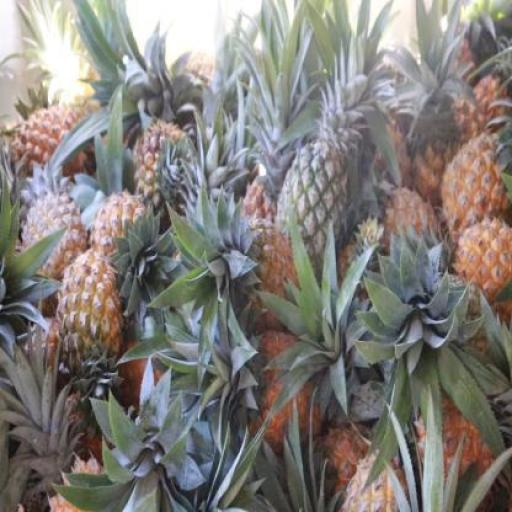Pineapple - v8 v1: (61, 251, 122, 377), (444, 131, 508, 235), (454, 222, 512, 302)
